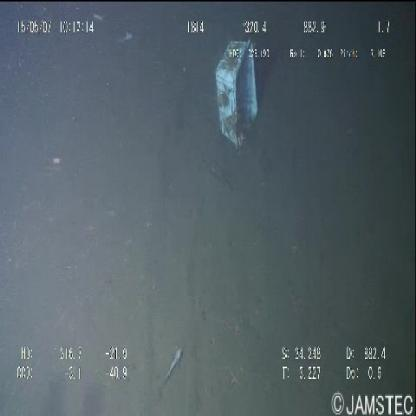Rác: (210, 26, 261, 156)
